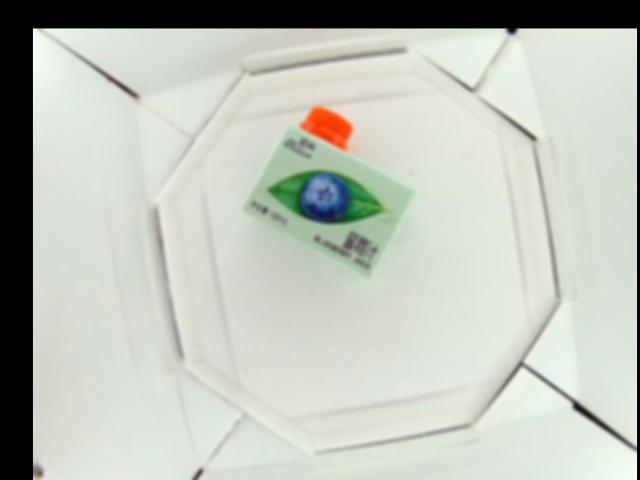Bottle: (244, 105, 416, 277)
